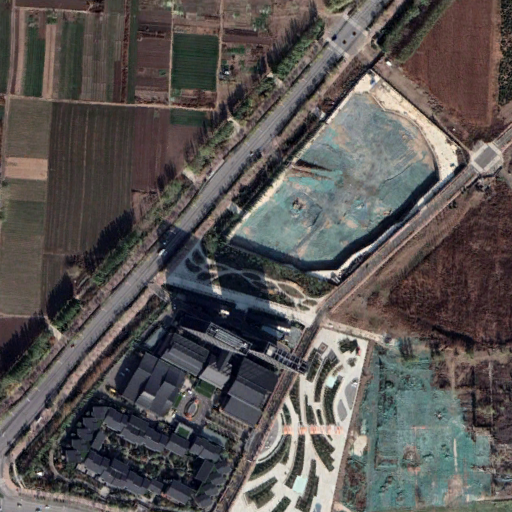cw: (233, 88, 440, 271), (340, 342, 512, 512)
